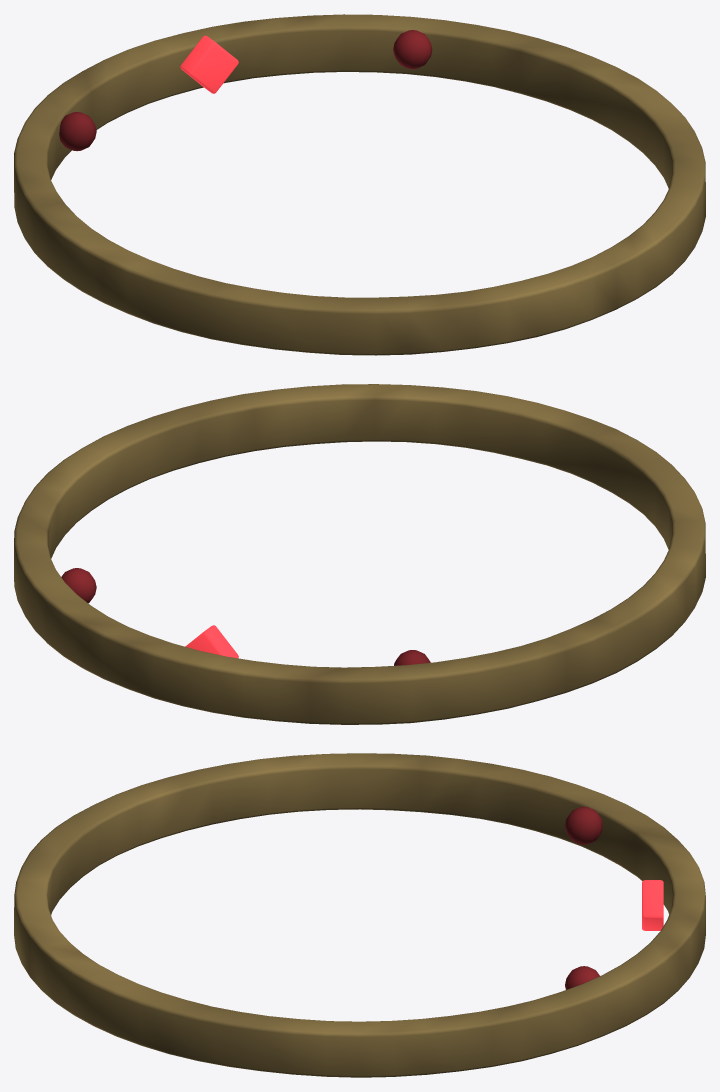
Rendered from head_circlet.glb.
The picture shows the model from 3 angles, top to bottom: view 1: azimuth 30°, elevation 25°; view 2: azimuth 150°, elevation 25°; view 3: azimuth 270°, elevation 25°; orthographic projection. The views are drawn at different scales.
Parts seen in each view (by area): view 1: Cylinder, Cube, Sphere.001, Sphere; view 2: Cylinder, Cube, Sphere.001; view 3: Cylinder, Sphere, Cube.
Boxes of the visible parts, box(x1,y1,x2,y2) form: Cylinder: box(14, 14, 705, 355); Cube: box(180, 35, 238, 93); Sphere.001: box(393, 30, 432, 69); Sphere: box(59, 112, 96, 151); Cylinder: box(14, 384, 705, 724); Cube: box(185, 625, 238, 658); Sphere.001: box(61, 568, 96, 603); Cylinder: box(14, 753, 705, 1077); Sphere: box(565, 806, 602, 844); Cube: box(642, 880, 663, 930).
Size of the model in its own units: 2.44 by 0.2338 by 2.53.
